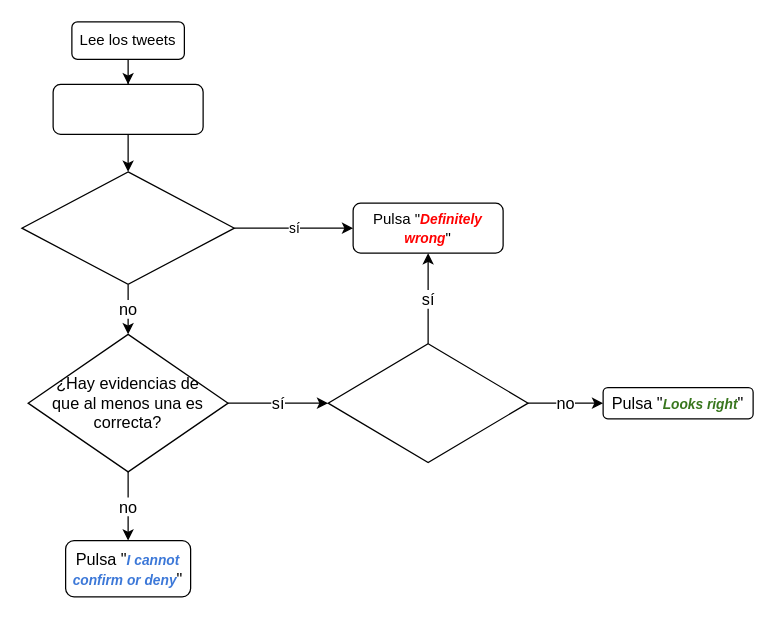
The diagram is 775 pixels wide and 619 high, and some of its shapes have lost their labels. Each missing label, with the centre of its shape:
"Lee las propiedades sugeridas" goes at pixel 127 108.
"¿Hay alguna contradicción con el resto?" goes at pixel 427 402.
"¿Hay evidencias de que al menos una sea incorrecta?" goes at pixel 127 227.
